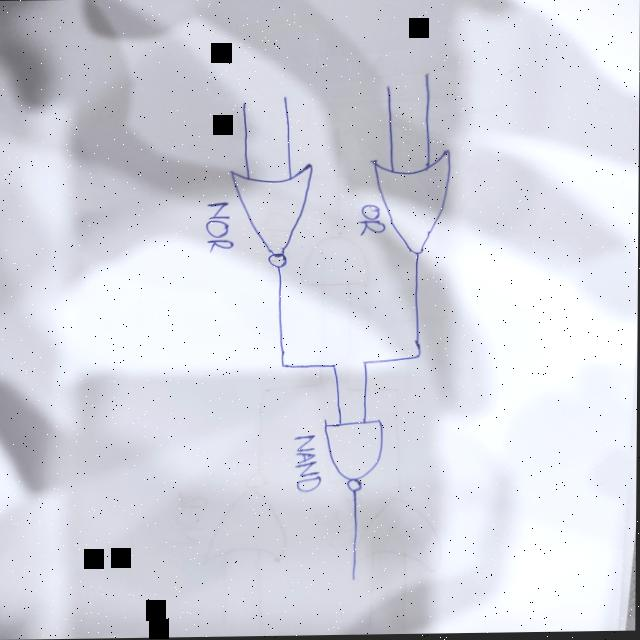junction: (277, 359, 295, 371), (412, 349, 428, 362), (329, 360, 342, 370), (359, 358, 372, 367)
terminal: (237, 97, 253, 111), (421, 68, 435, 82), (349, 571, 362, 584), (383, 81, 395, 93), (280, 92, 291, 101)
text: (294, 433, 324, 493), (205, 199, 237, 254), (357, 204, 387, 237)
